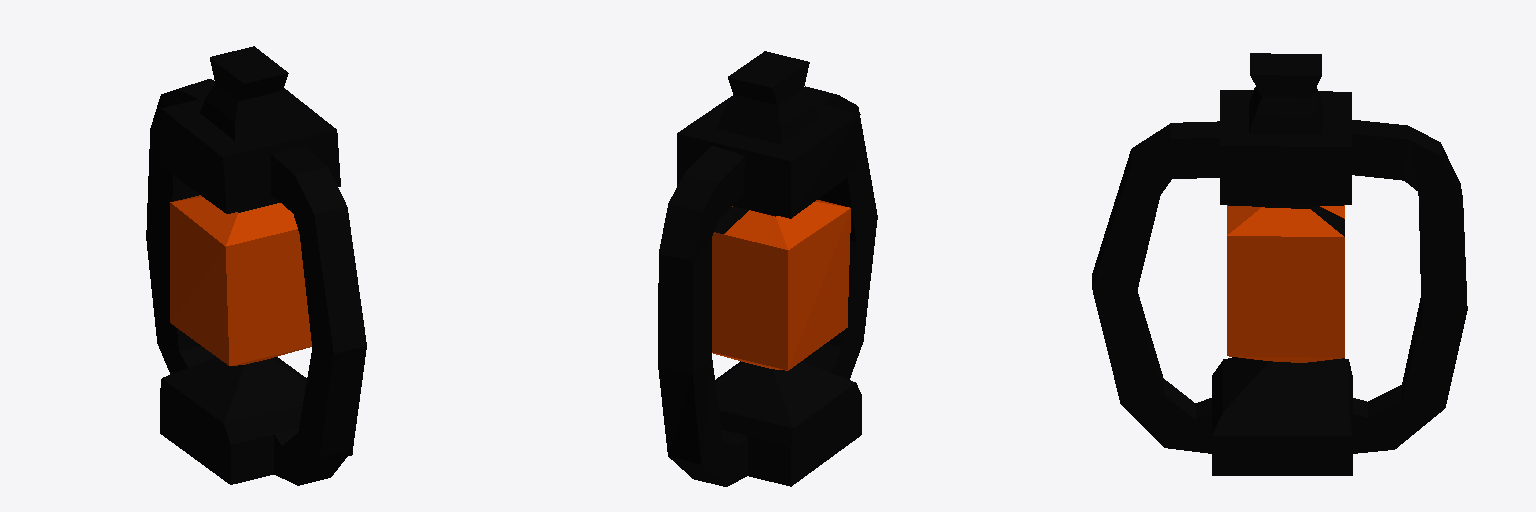
Rendered from lamp.obj.
3 renders of one model, left to right at view 1: azimuth 30°, elevation 25°; view 2: azimuth 150°, elevation 25°; view 3: azimuth 270°, elevation 25°, orthographic.
Parts seen in each view (by area): view 1: Cube, Cube.001; view 2: Cube, Cube.001; view 3: Cube, Cube.001.
Boxes of the visible parts, x1=… form: Cube: x1=146, y1=46, x2=366, y2=485; Cube.001: x1=170, y1=195, x2=311, y2=365; Cube: x1=658, y1=51, x2=877, y2=486; Cube.001: x1=712, y1=200, x2=850, y2=370; Cube: x1=1092, y1=53, x2=1467, y2=475; Cube.001: x1=1227, y1=205, x2=1344, y2=362.
Size of the model in its own units: 0.3894 by 1.12 by 1.01.